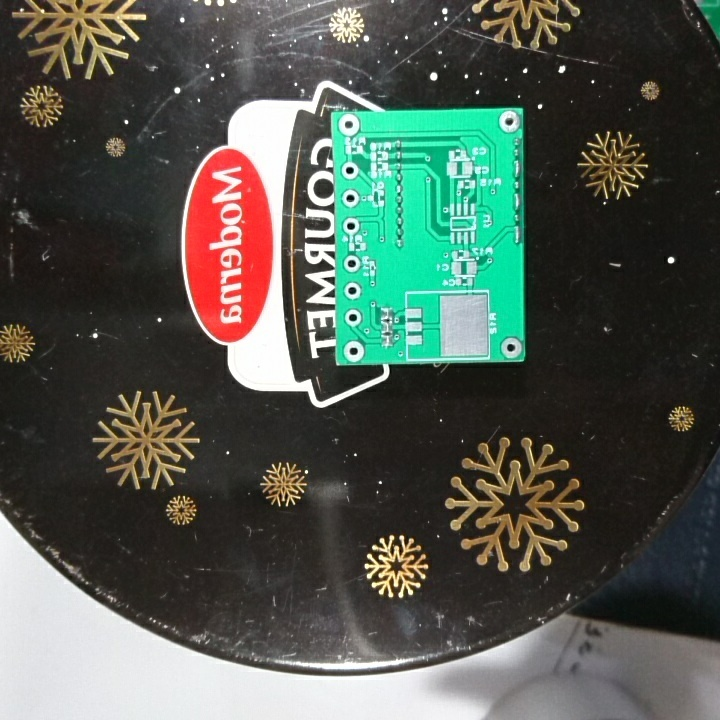F: (498, 334, 524, 360), (337, 112, 362, 138), (497, 109, 522, 135), (340, 339, 367, 363), (341, 306, 365, 329), (339, 159, 361, 183), (340, 186, 362, 210), (342, 280, 364, 302), (342, 253, 362, 276), (341, 216, 363, 235)
P: (511, 192, 522, 214), (511, 223, 522, 244), (511, 159, 522, 180)
